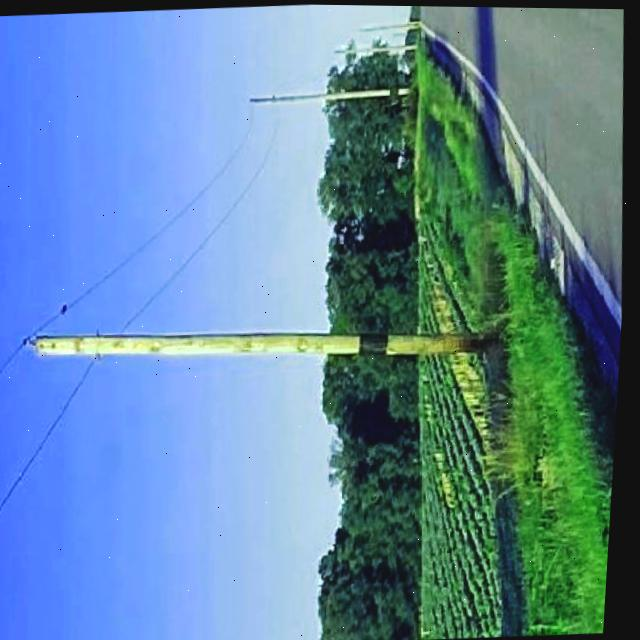poles: (20, 274, 496, 411)
wires: (30, 111, 308, 336), (0, 354, 120, 538)
